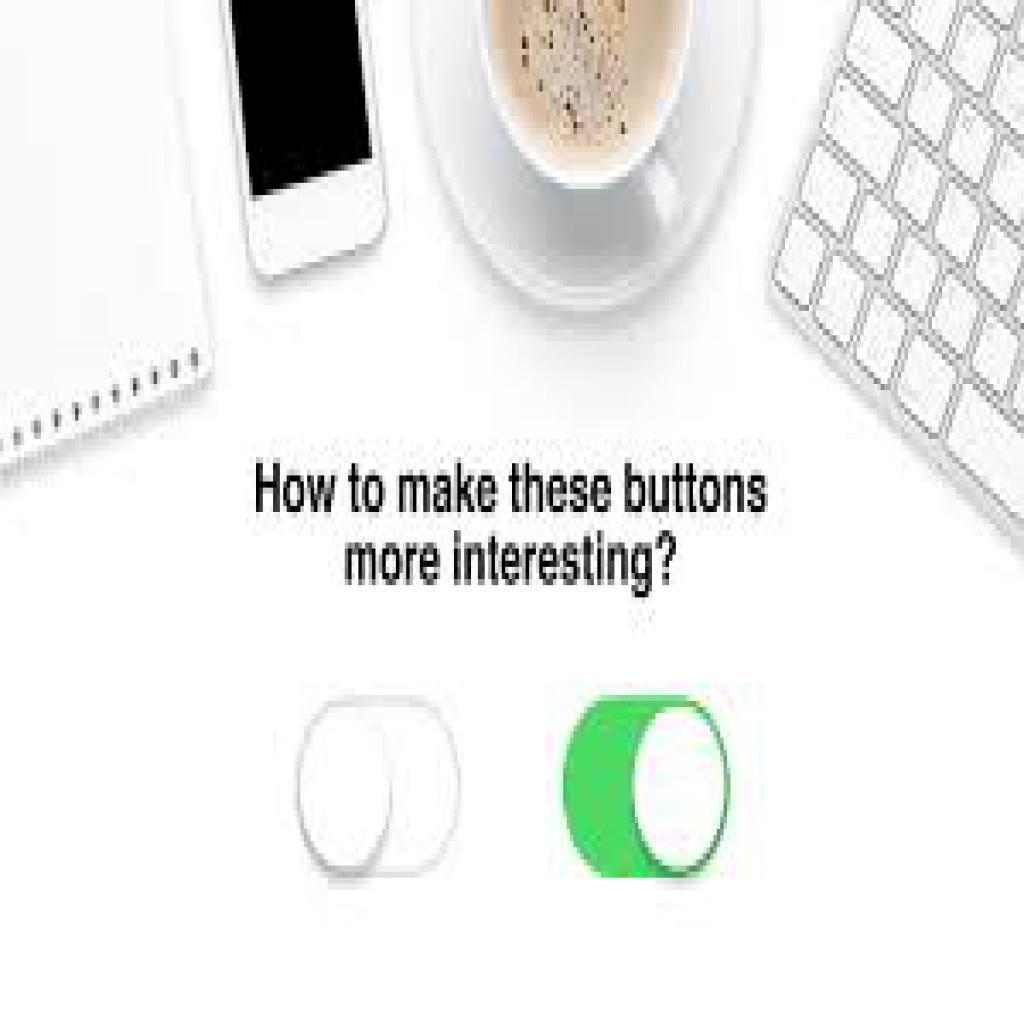switch: (297, 695, 473, 888), (561, 695, 742, 881)
